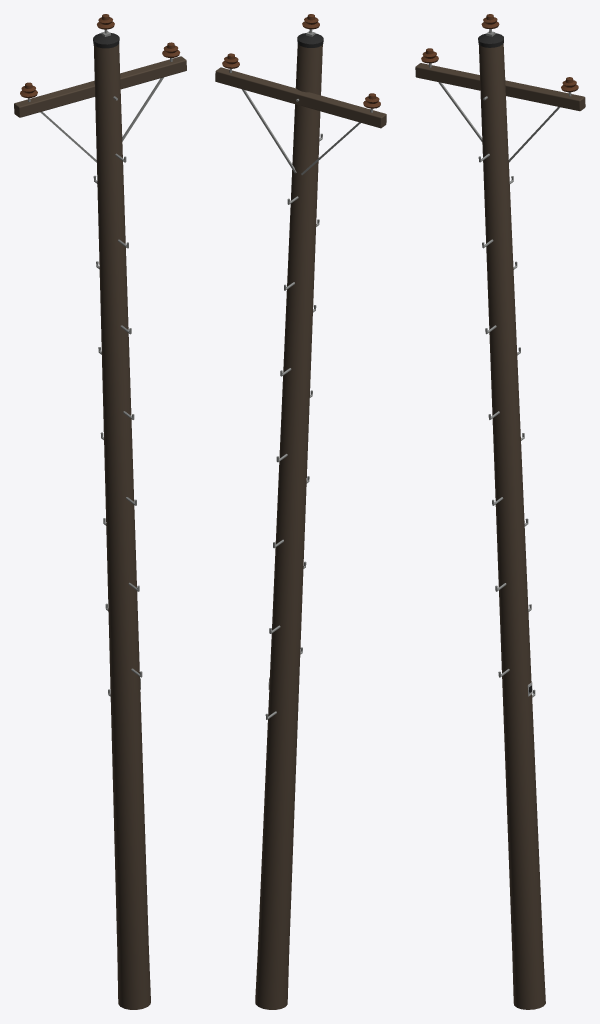
The model's file is SM_Prop_power_pole_0.glb.
The picture shows the model from 3 angles, left to right: view 1: azimuth 30°, elevation 25°; view 2: azimuth 150°, elevation 25°; view 3: azimuth 330°, elevation 25°; orthographic projection.
Parts seen in each view (by area): view 1: SM_Prop_power_pole_0; view 2: SM_Prop_power_pole_0; view 3: SM_Prop_power_pole_0.
Part boxes in pixels (left/top/right/bottom): SM_Prop_power_pole_0: left=14, top=14, right=186, bottom=1009; SM_Prop_power_pole_0: left=215, top=14, right=386, bottom=1009; SM_Prop_power_pole_0: left=415, top=14, right=585, bottom=1009.
Bounding box in the file's own units: 1.7 × 9.69 × 0.6462.
